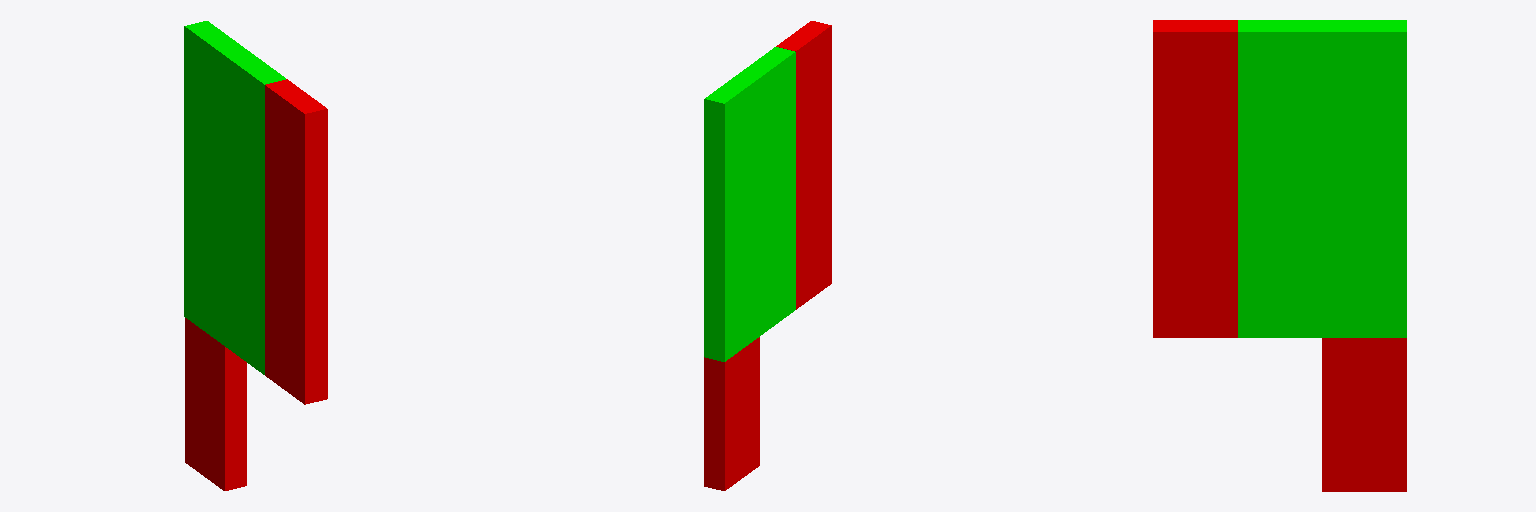
robot.urdf — workspace:
<robot name="workspace">
    <link name="base_link"/>

    <link name="arm_1_main_workspace">
        <workspace_area name="arm_1_main_workspace" type="normal">
            <origin rpy="0.0 0.0 0.0" xyz="0.0 0.4582 1.2192"/>
            <rectangle size="0.609 1.2192"/> 
        </workspace_area>
        <visual name="arm_1_main_workspace_visual">
            <origin rpy="0.0 0.0 0.0" xyz="0.0 0.4582 1.2192"/>
            <geometry>
                <box size="0.1 0.609 1.2192"/> 
            </geometry>
            <material name="green">
                <color rgba="0 1.0 0 0.4"/>
            </material>
        </visual>
    </link>

    <link name="arm_1_bottom_workspace">
        <workspace_area name="arm_1_bottom_workspace" type="critical">
            <origin rpy="0.0 0.0 0.0" xyz="0.0 0.6096 0.3048"/>
            <rectangle size="0.3048 0.6096"/> 
        </workspace_area>
        <visual name="arm_1_bottom_workspace_visual">
            <origin rpy="0.0 0.0 0.0" xyz="0.0 0.6096 0.3048"/>
            <geometry>
                <box size="0.1 0.3048 0.6096"/> 
            </geometry>
            <material name="red">
                <color rgba="1.0 0 0 0.4"/>
            </material>
        </visual>
    </link>

    <link name="arm_1_right_workspace">
        <workspace_area name="arm_1_right_workspace" type="critical">
            <origin rpy="0.0 0.0 0.0" xyz="0.0 0.0 1.2192"/>
            <rectangle size="0.3048 1.2192"/> 
        </workspace_area>
        <visual name="arm_1_right_workspace_visual">
            <origin rpy="0.0 0.0 0.0" xyz="0.0 0.0 1.2192"/>
            <geometry>
                <box size="0.1 0.3048 1.2192"/> 
            </geometry>
            <material name="red">
                <color rgba="1.0 0 0 0.4"/>
            </material>
        </visual>
    </link>

    <joint name="arm_1_main_workspace_fixed" type="fixed">
        <parent link="base_link"/>
        <child link="arm_1_main_workspace"/>
        <origin rpy="0.0 0.0 0.0" xyz="0.7 0.0 0.0"/>
    </joint>

    <joint name="arm_1_bottom_workspace_fixed" type="fixed">
        <parent link="base_link"/>
        <child link="arm_1_bottom_workspace"/>
        <origin rpy="0.0 0.0 0.0" xyz="0.7 0.0 0.0"/>
    </joint>

    <joint name="arm_1_right_workspace_fixed" type="fixed">
        <parent link="base_link"/>
        <child link="arm_1_right_workspace"/>
        <origin rpy="0.0 0.0 0.0" xyz="0.7 0.0 0.0"/>
    </joint>
</robot>

--- What the picture shows (computed from the rendered views, not written in the file) ---
3 views of the same robot in one strip: view 1: azimuth 30°, elevation 25°; view 2: azimuth 150°, elevation 25°; view 3: azimuth 270°, elevation 25° (orthographic).
Model workspace with 4 links and 3 joints (3 fixed), rooted at base_link, posed every joint at zero.
Visible links, largest first — view 1: arm_1_main_workspace, arm_1_right_workspace, arm_1_bottom_workspace; view 2: arm_1_main_workspace, arm_1_right_workspace, arm_1_bottom_workspace; view 3: arm_1_main_workspace, arm_1_right_workspace, arm_1_bottom_workspace.
Boxes of the visible links, box(x1,y1,x2,y2) form: arm_1_main_workspace: box(184, 21, 285, 374); arm_1_right_workspace: box(265, 79, 327, 404); arm_1_bottom_workspace: box(185, 318, 246, 490); arm_1_main_workspace: box(704, 47, 795, 361); arm_1_right_workspace: box(776, 21, 831, 309); arm_1_bottom_workspace: box(704, 337, 759, 490); arm_1_main_workspace: box(1238, 20, 1406, 337); arm_1_right_workspace: box(1153, 20, 1237, 337); arm_1_bottom_workspace: box(1322, 338, 1406, 491).
Size in the robot's own frame: 0.1 by 0.9151 by 1.83 metres.
Geometry: primitives only (box / cylinder / sphere), no mesh files.
